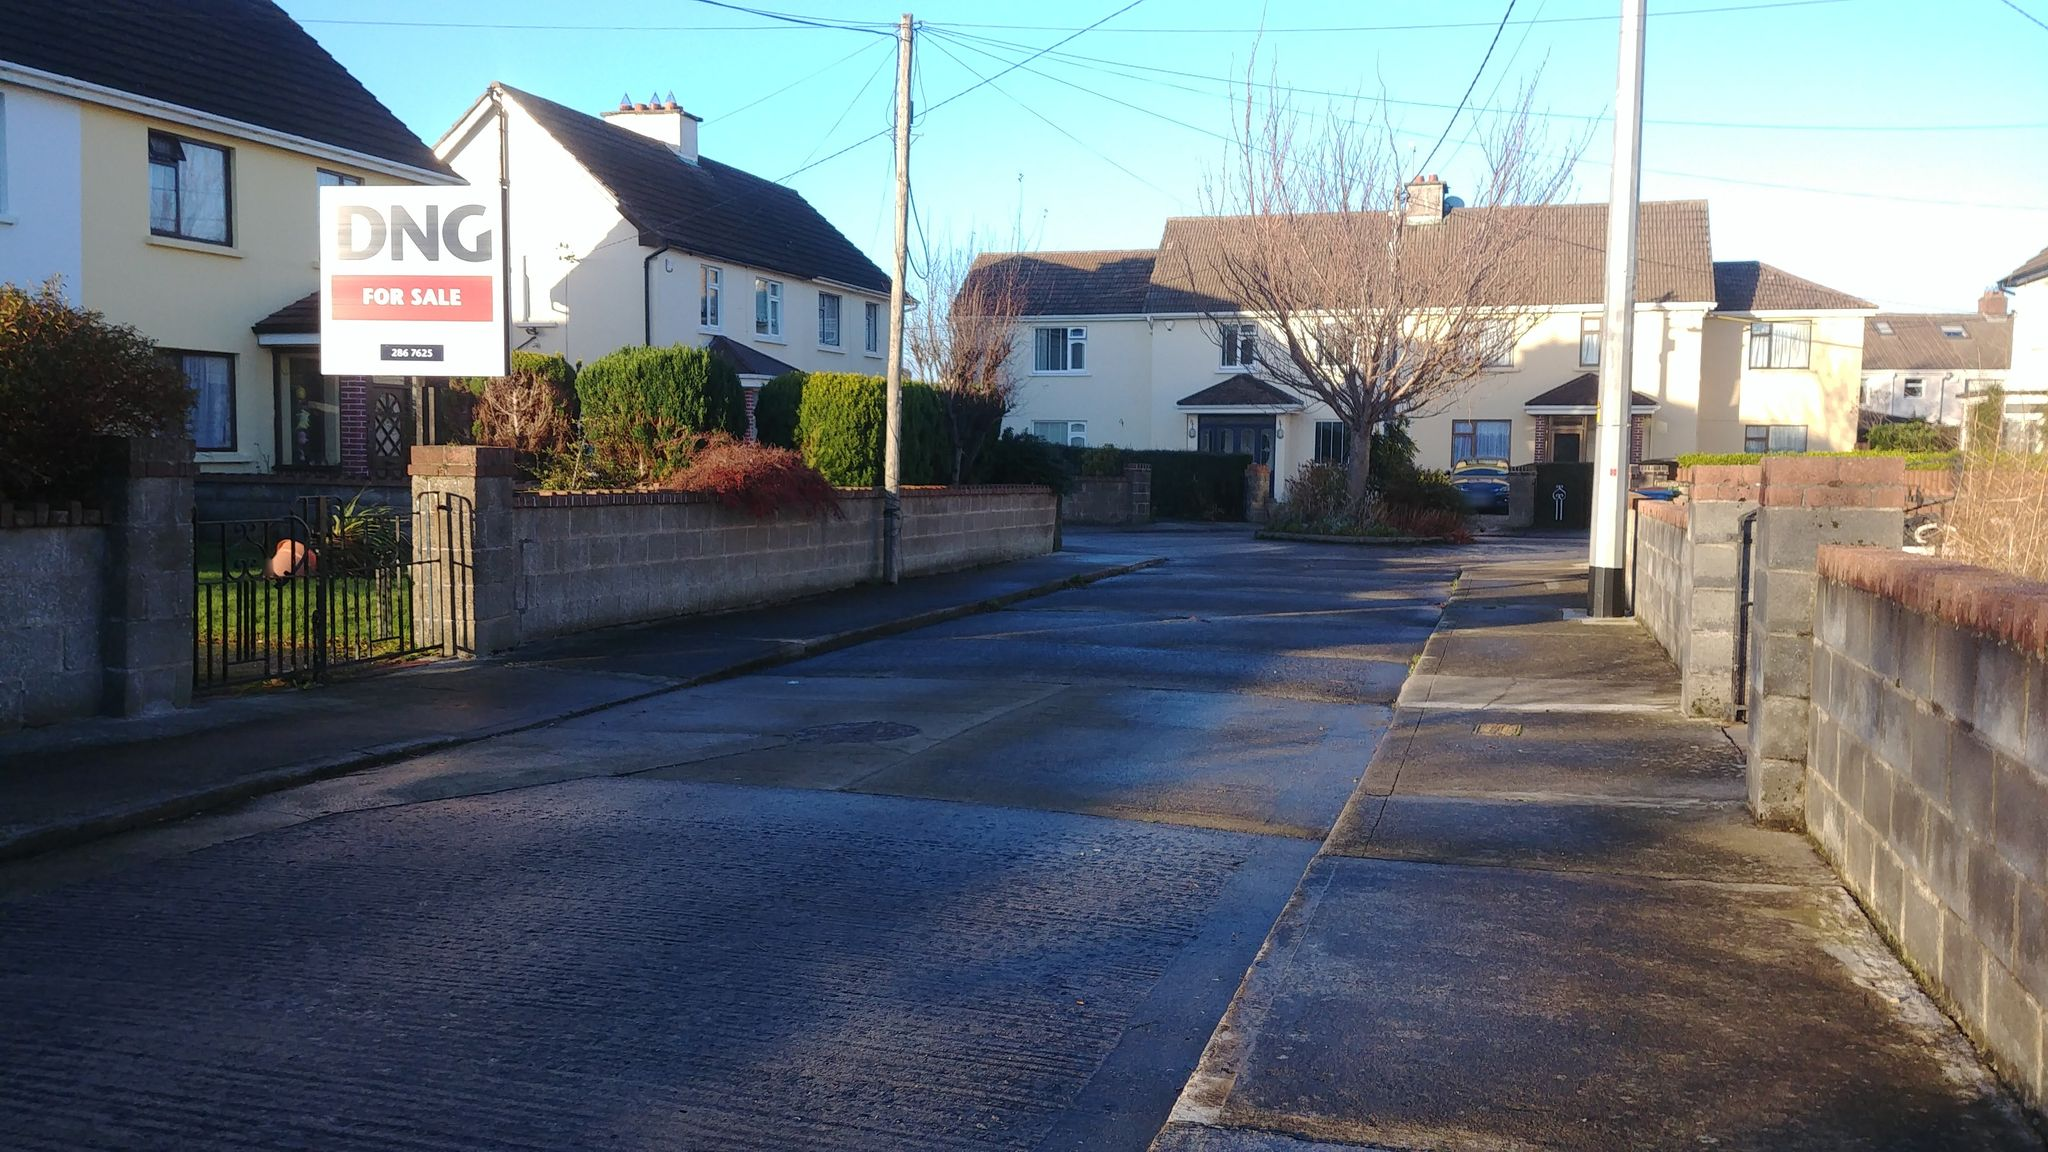property sign: (307, 160, 526, 392)
